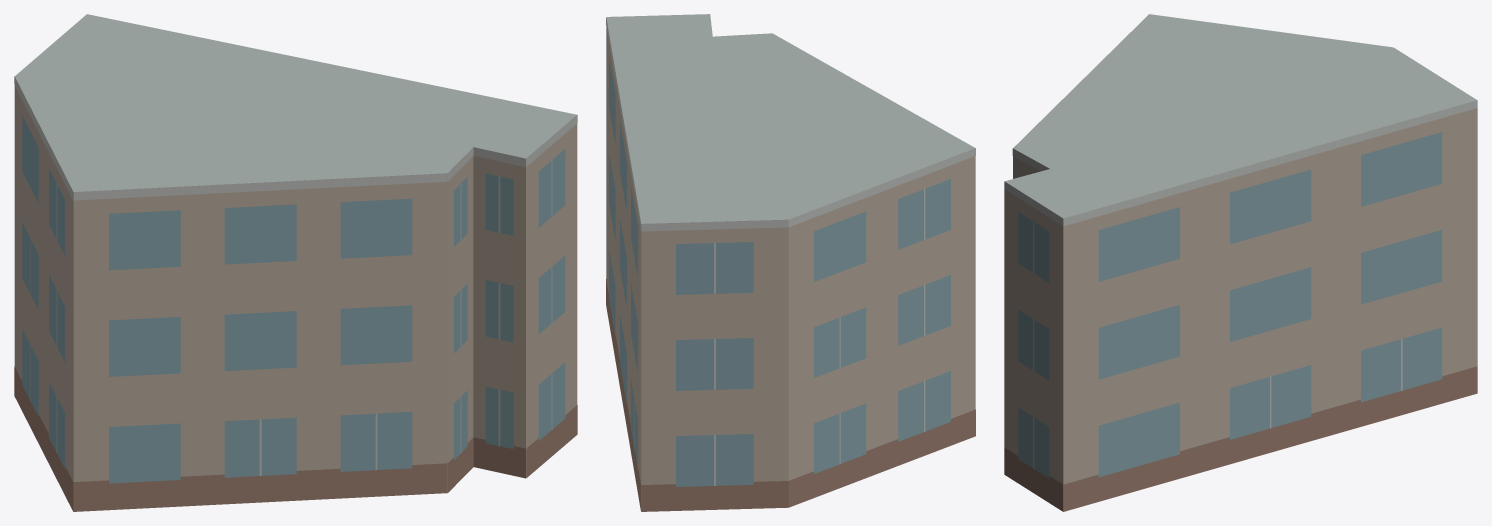
The model's file is survey-upis-32720973.glb.
3 renders of one model, left to right at view 1: azimuth 30°, elevation 25°; view 2: azimuth 150°, elevation 25°; view 3: azimuth 270°, elevation 25°, orthographic. The views are drawn at different scales.
Parts seen in each view (by area): view 1: survey-upis-32720973.tmp; view 2: survey-upis-32720973.tmp; view 3: survey-upis-32720973.tmp.
Boxes of the visible parts, bbox=[...] form: survey-upis-32720973.tmp: bbox=[14, 14, 577, 511]; survey-upis-32720973.tmp: bbox=[606, 14, 975, 511]; survey-upis-32720973.tmp: bbox=[1004, 14, 1477, 511].
Bounding box in the file's own units: 13.7 × 9.15 × 13.38.
